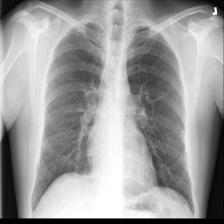normal: (29, 16, 198, 217)
